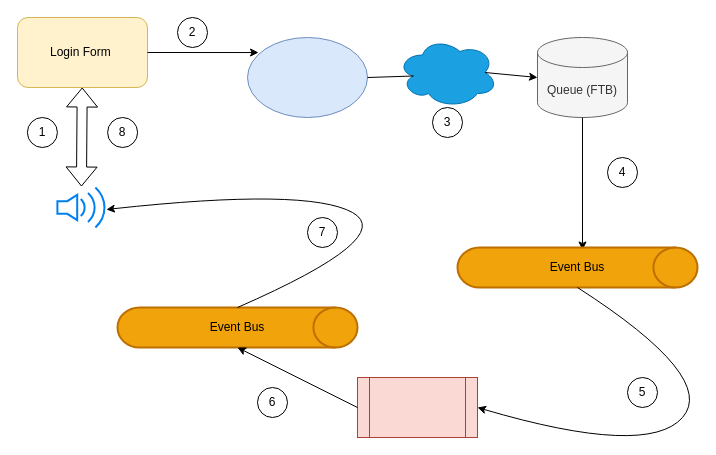
Some shapes in this 716 by 455 pixel diagram are drawn without their labels. The shapes that lost their labels are listed below. From the top down, each one's box as (x1, y1, x2, y2) in pixels, then its label:
(246, 36, 368, 118): Login/Register Button
(396, 36, 498, 108): SFDC
(56, 186, 108, 228): CometD
(356, 376, 478, 438): Login/Register Operation
